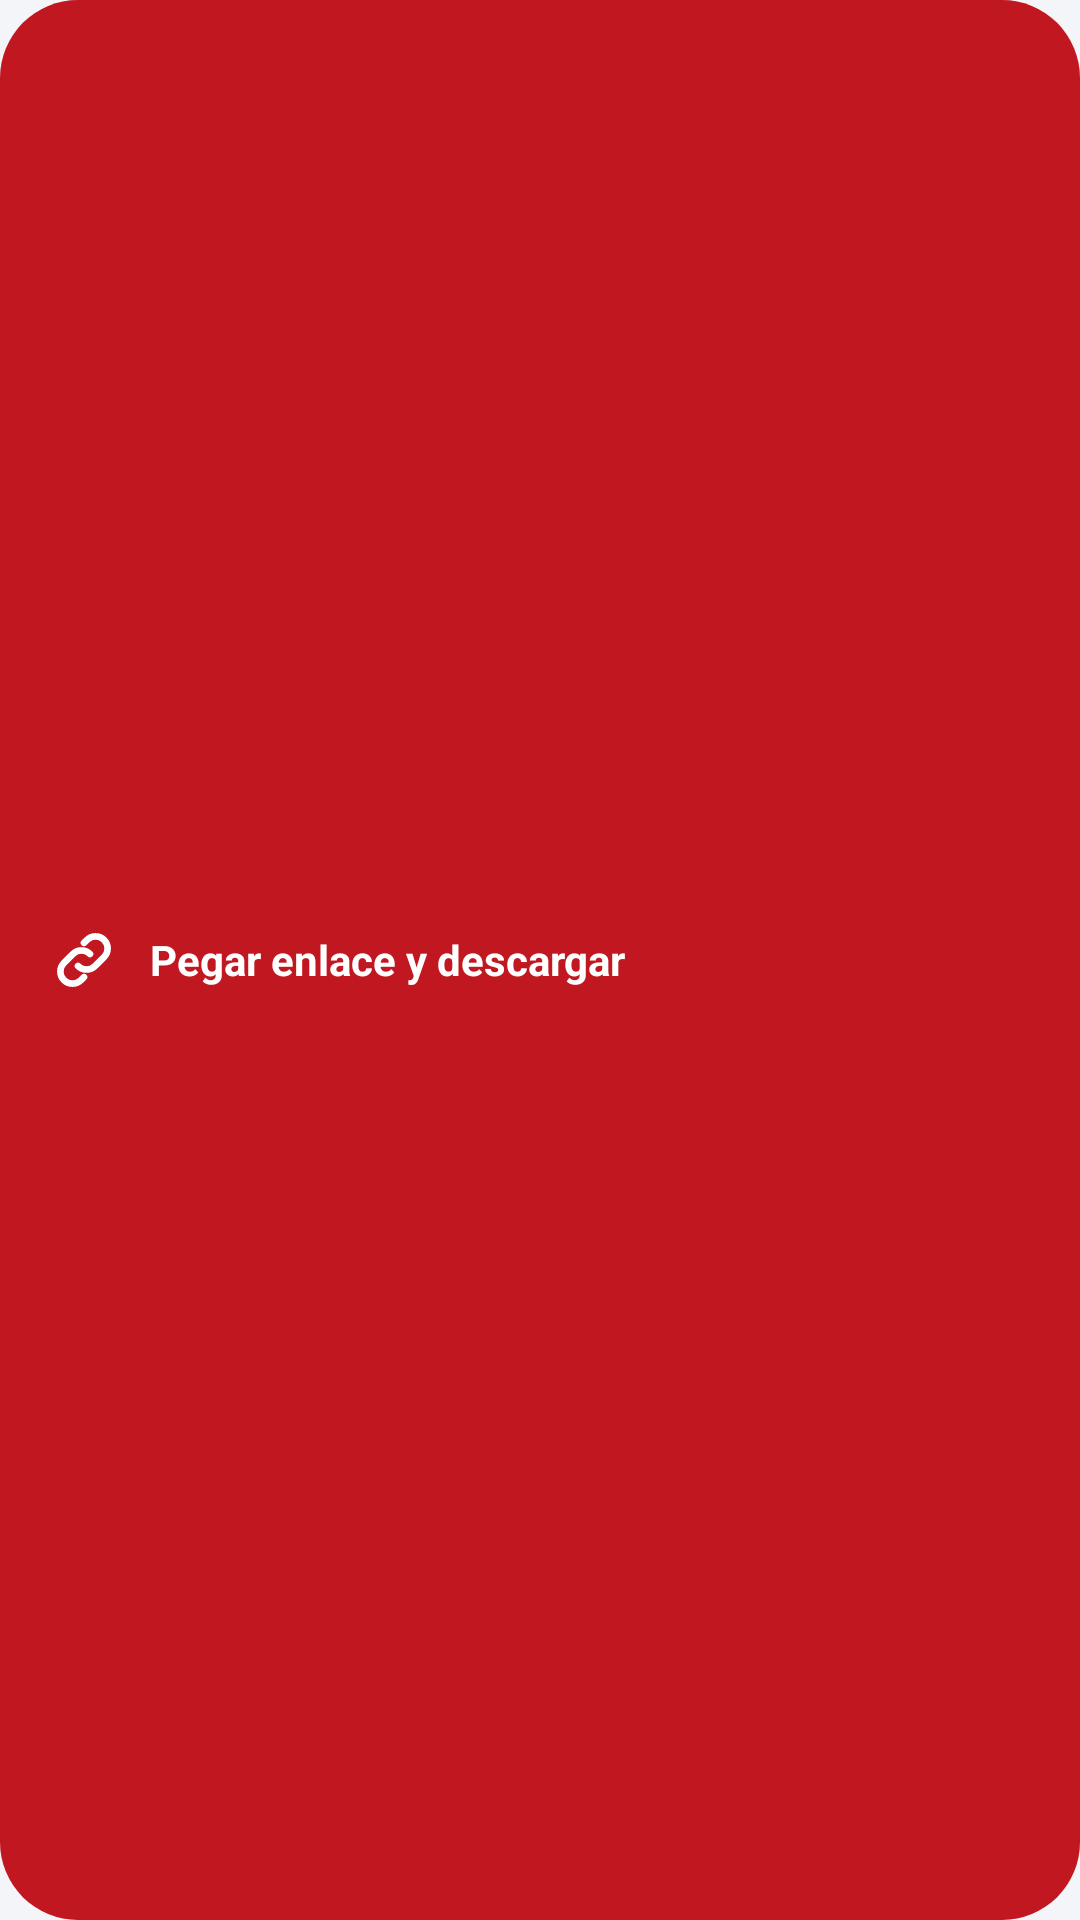

Where icons sit on this 1080x1920 app screen, as (x1, y1, x2, y2):
wi enlace: (57, 933, 111, 987)
